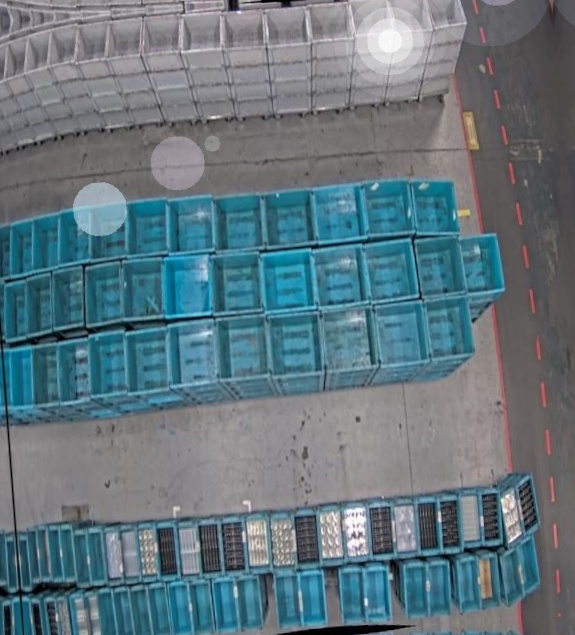Box: (371, 301, 430, 374), (361, 237, 422, 307), (265, 310, 324, 382), (312, 242, 372, 312), (319, 308, 379, 377), (259, 247, 318, 316), (357, 174, 416, 242), (210, 249, 267, 318), (424, 293, 478, 365), (259, 186, 317, 253), (214, 315, 269, 384), (168, 320, 222, 390), (311, 180, 367, 246), (411, 234, 466, 301), (212, 190, 267, 256), (160, 252, 213, 320), (409, 173, 462, 240), (166, 193, 219, 258), (458, 232, 509, 299), (125, 327, 173, 397), (85, 331, 131, 401), (124, 196, 174, 259), (81, 262, 127, 328), (122, 257, 167, 322), (54, 337, 94, 405), (87, 201, 130, 262), (49, 268, 88, 331), (219, 6, 269, 53), (54, 206, 92, 267), (263, 3, 312, 50), (304, 0, 355, 45), (177, 10, 224, 55), (29, 343, 61, 408), (29, 211, 64, 270), (103, 16, 146, 64), (23, 274, 56, 335), (139, 12, 183, 57), (73, 19, 111, 71), (7, 347, 38, 409), (347, 0, 395, 40), (48, 24, 82, 79), (387, 0, 434, 39), (316, 503, 345, 566), (514, 473, 541, 540), (3, 281, 33, 340), (292, 508, 321, 569), (219, 515, 248, 576), (7, 218, 38, 275), (244, 512, 272, 574), (271, 511, 299, 572), (362, 567, 391, 625), (343, 503, 371, 563), (390, 498, 418, 558), (516, 533, 542, 597), (366, 500, 394, 559), (499, 485, 524, 551), (499, 546, 526, 607), (415, 494, 442, 555), (456, 556, 484, 614), (340, 568, 368, 625), (176, 518, 202, 579), (423, 0, 467, 36), (402, 562, 429, 620), (437, 496, 463, 556), (426, 560, 453, 617), (154, 520, 179, 581), (278, 572, 305, 628), (213, 579, 240, 634), (299, 575, 326, 630), (21, 30, 55, 73), (459, 490, 484, 548), (202, 519, 226, 579), (189, 581, 215, 635), (137, 521, 160, 582), (476, 552, 500, 610), (240, 577, 265, 632), (1, 36, 32, 80), (146, 583, 172, 635), (119, 524, 142, 582), (170, 583, 195, 635), (106, 525, 128, 583), (85, 526, 106, 585), (481, 490, 503, 546), (73, 526, 93, 587), (57, 523, 77, 582), (96, 589, 120, 635), (46, 523, 64, 583), (129, 587, 151, 635), (24, 527, 41, 587), (37, 524, 54, 583), (113, 588, 134, 635), (95, 526, 112, 584), (71, 592, 93, 635), (83, 591, 103, 635), (0, 224, 15, 281), (55, 594, 74, 635), (43, 595, 62, 635), (29, 596, 47, 635), (0, 43, 12, 87)
